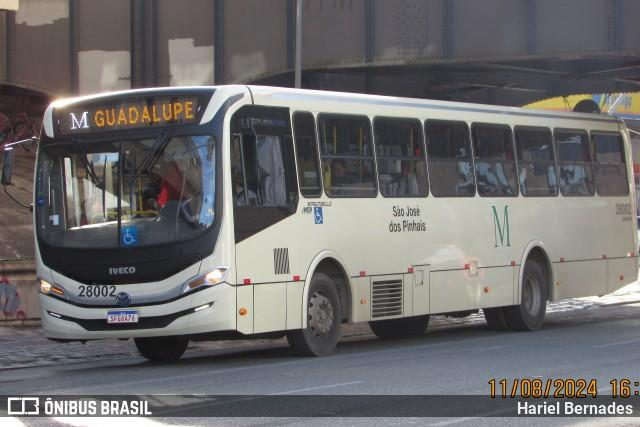GUADALUPE: (93, 97, 196, 129)
